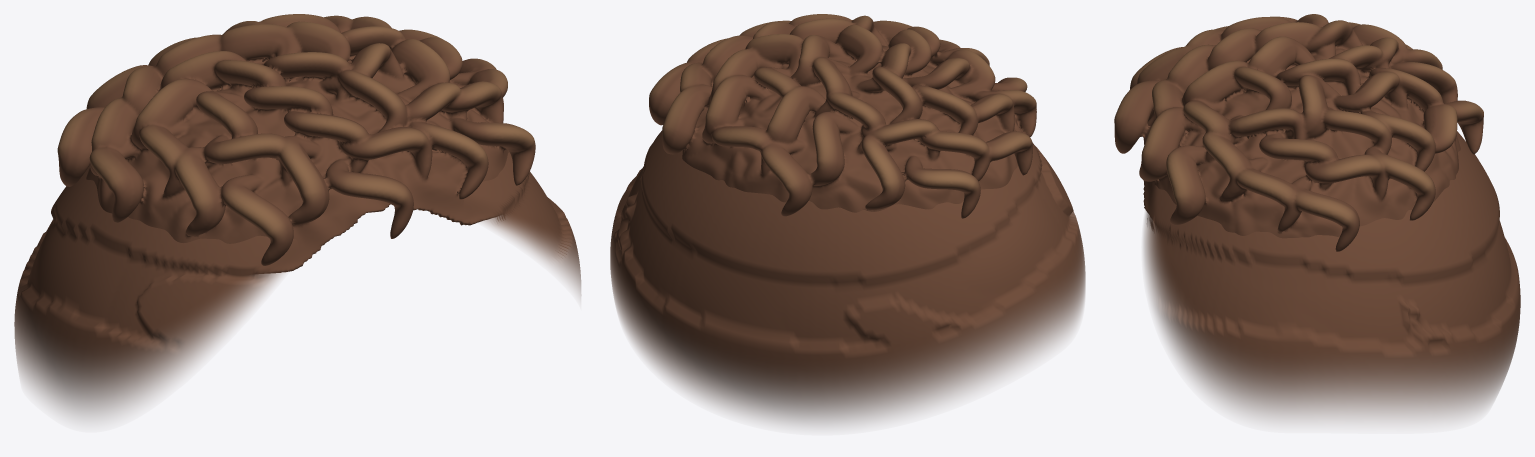
The model's file is Ombre-8fae4cc57f24253-hair.glb.
The picture shows the model from 3 angles, left to right: view 1: azimuth 30°, elevation 25°; view 2: azimuth 150°, elevation 25°; view 3: azimuth 270°, elevation 25°; orthographic projection. The views are drawn at different scales.
Visible parts, largest first — view 1: 226 hair / Hair252 / sculpted curl groups.001, 226 hair / Hair252 / curly close fade coverage.001; view 2: 226 hair / Hair252 / curly close fade coverage.001, 226 hair / Hair252 / sculpted curl groups.001; view 3: 226 hair / Hair252 / curly close fade coverage.001, 226 hair / Hair252 / sculpted curl groups.001.
Part boxes in pixels (box(x1,y1,x2,y2)): 226 hair / Hair252 / sculpted curl groups.001: box(57, 14, 535, 273); 226 hair / Hair252 / curly close fade coverage.001: box(14, 152, 580, 418); 226 hair / Hair252 / curly close fade coverage.001: box(610, 130, 1085, 425); 226 hair / Hair252 / sculpted curl groups.001: box(649, 14, 1036, 218); 226 hair / Hair252 / curly close fade coverage.001: box(1143, 131, 1520, 420); 226 hair / Hair252 / sculpted curl groups.001: box(1114, 14, 1483, 251).
Bounding box in the file's own units: 0.976 × 0.7233 × 0.762.
2 materials, 2 textured.
